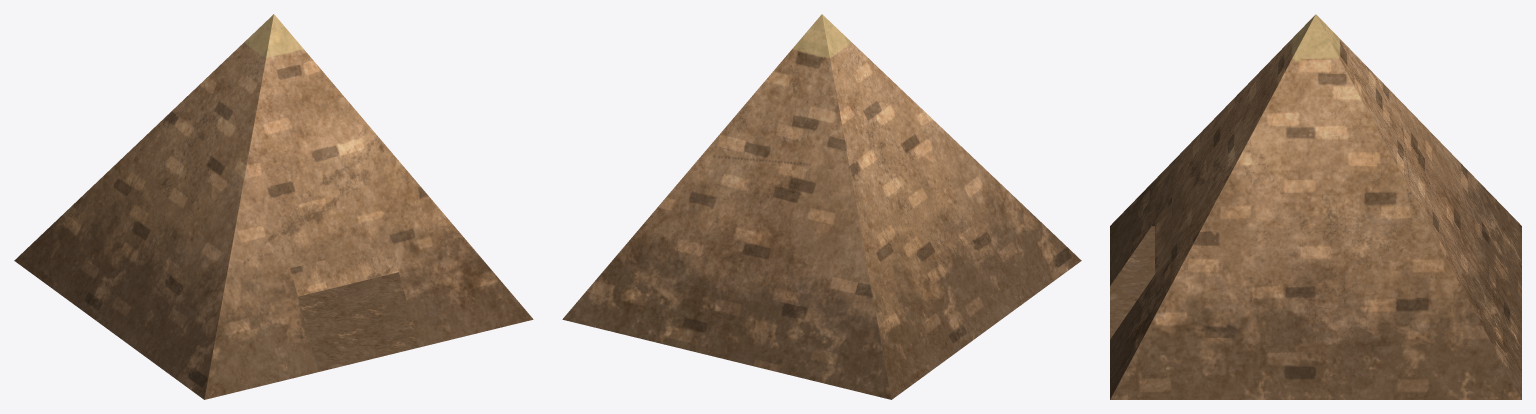
The model's file is FilpPyramid_1.fbx.
3 renders of one model, left to right at view 1: azimuth 30°, elevation 25°; view 2: azimuth 150°, elevation 25°; view 3: azimuth 270°, elevation 25°, orthographic. The views are drawn at different scales.
Visible parts, largest first — view 1: pyramid; view 2: pyramid; view 3: pyramid.
Boxes of the visible parts, x1,y1,x2,y2 form: pyramid: (14, 14, 533, 399); pyramid: (562, 14, 1081, 399); pyramid: (1110, 14, 1521, 399).
Bounding box in the file's own units: 2517 × 2016 × 2517.
